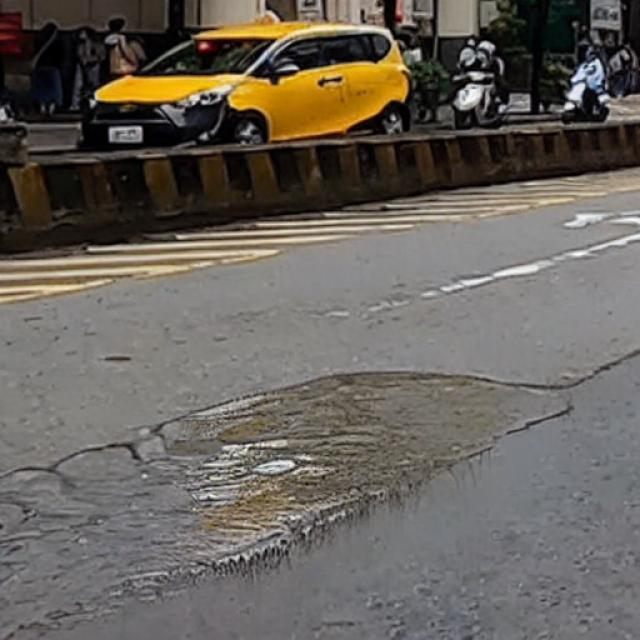puddle: (3, 377, 570, 640)
